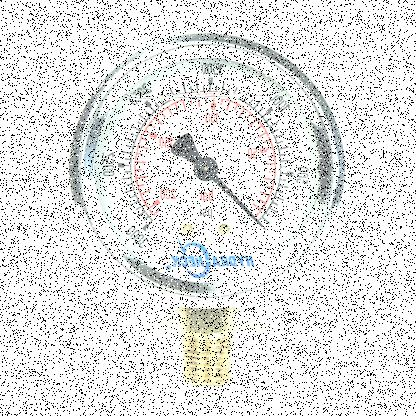needle: (210, 173, 267, 232)
